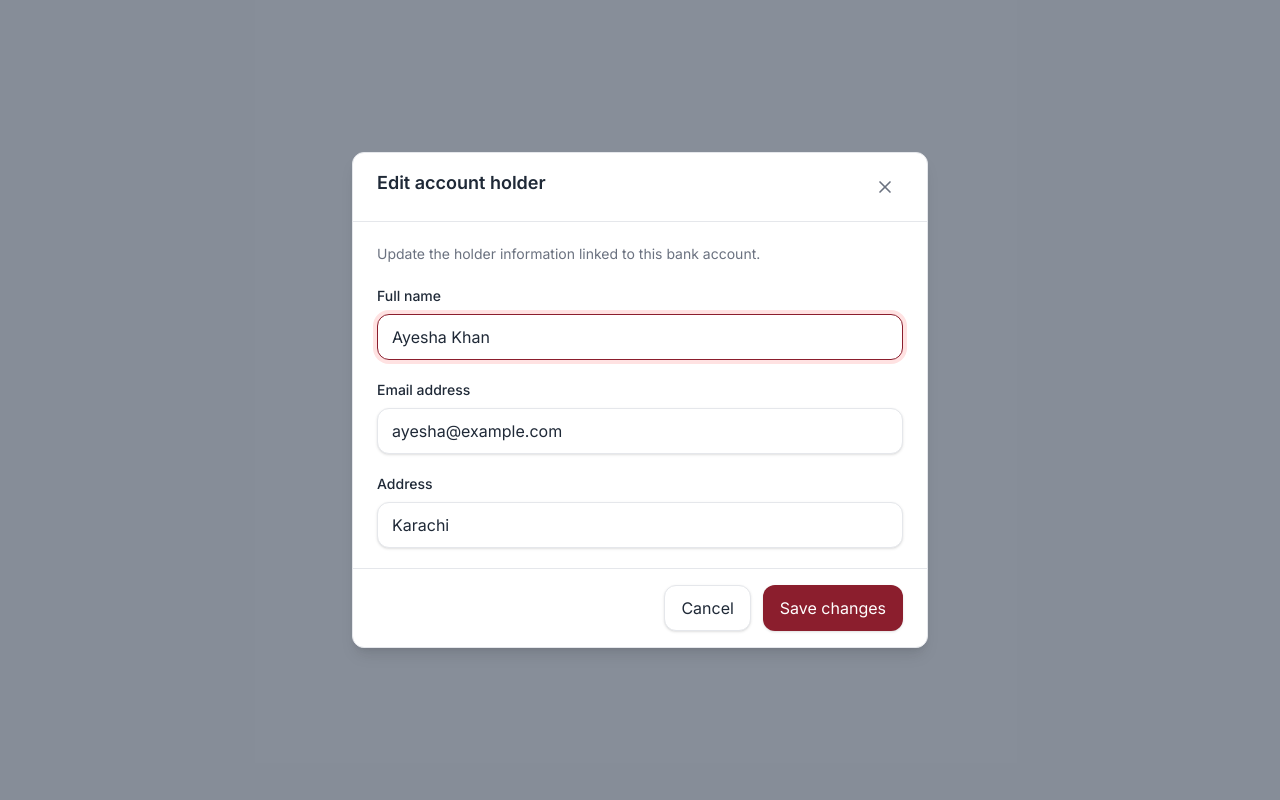
EditAccountHolderModal › shows validation errors instead of saving incomplete information
Clear the field labelled "Full name" at [640, 337], box [377,314,903,360]
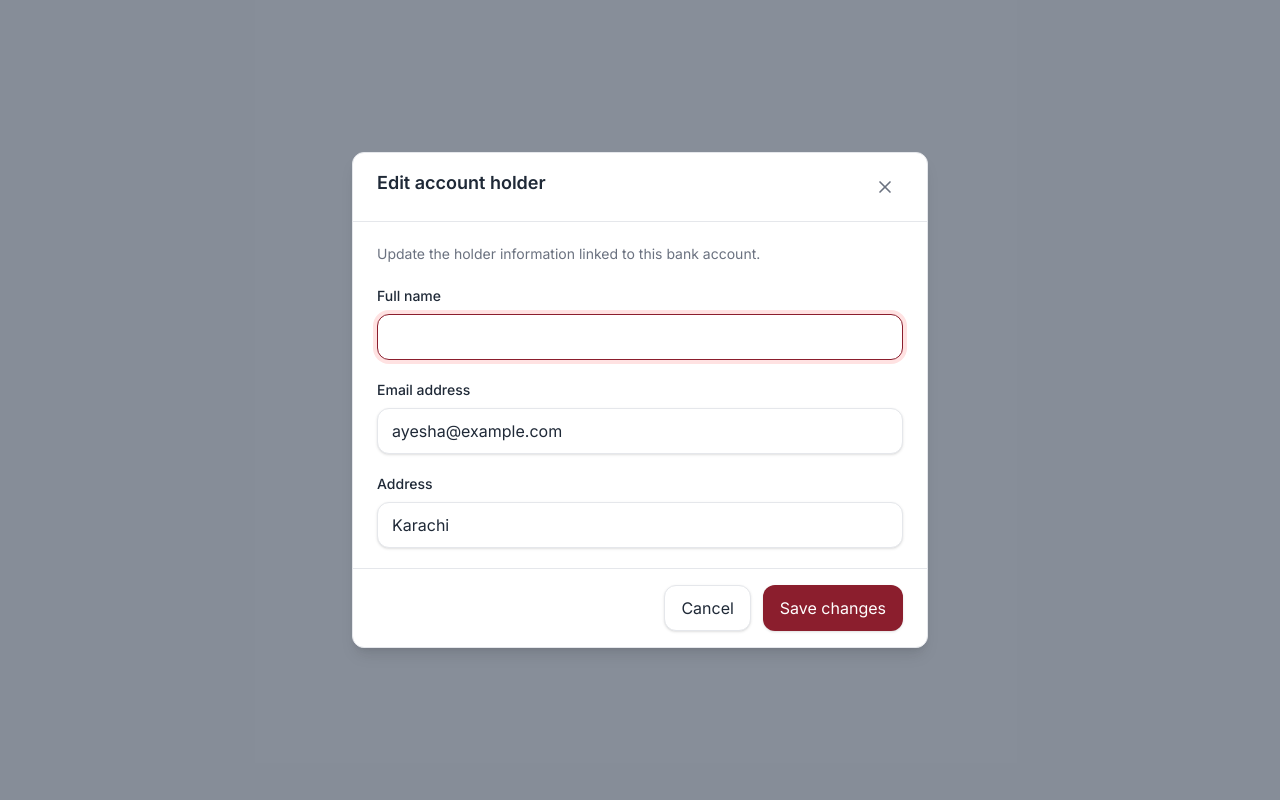
Click the button "Save changes" at [833, 608], box [763,585,903,631]
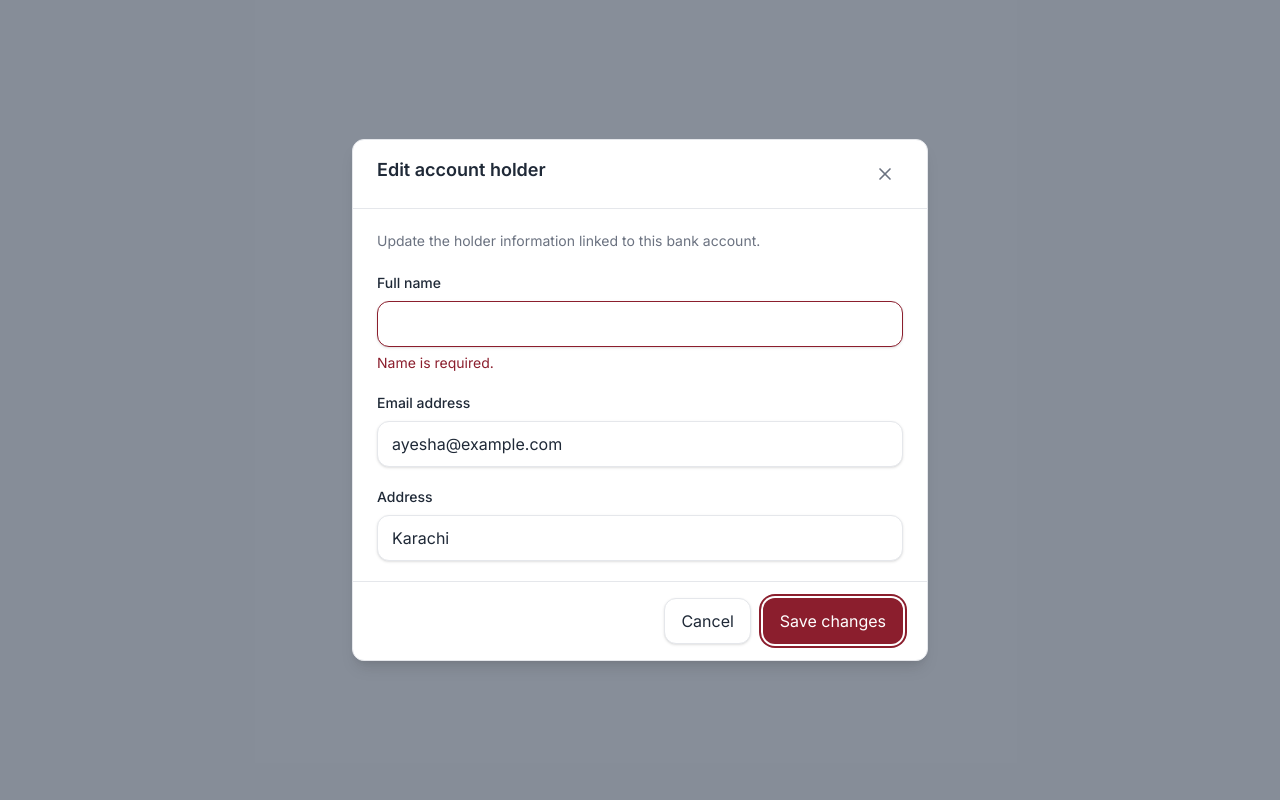
Result: the text "Name is required." is shown at [377,354,494,371]
